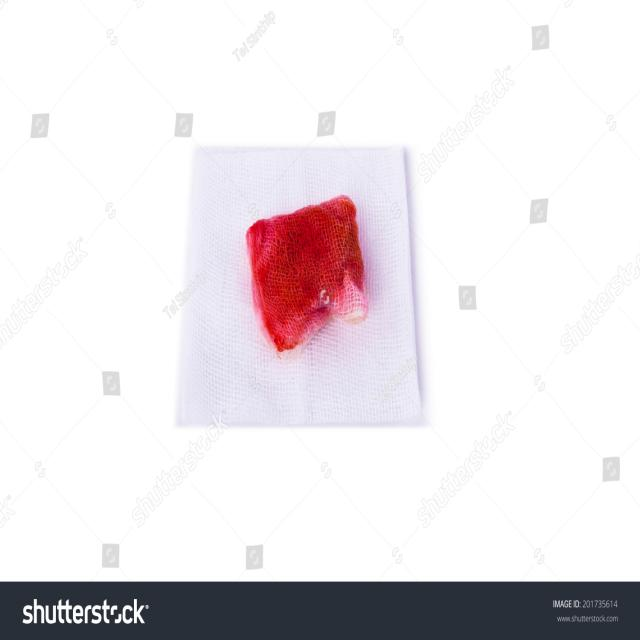B3: (228, 188, 390, 387)
